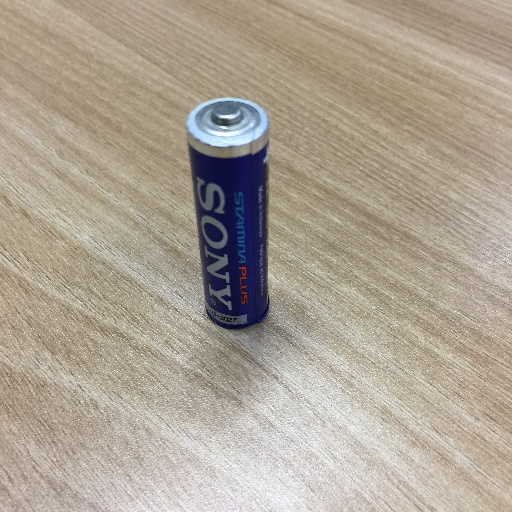Battery_0: (180, 94, 276, 337)
